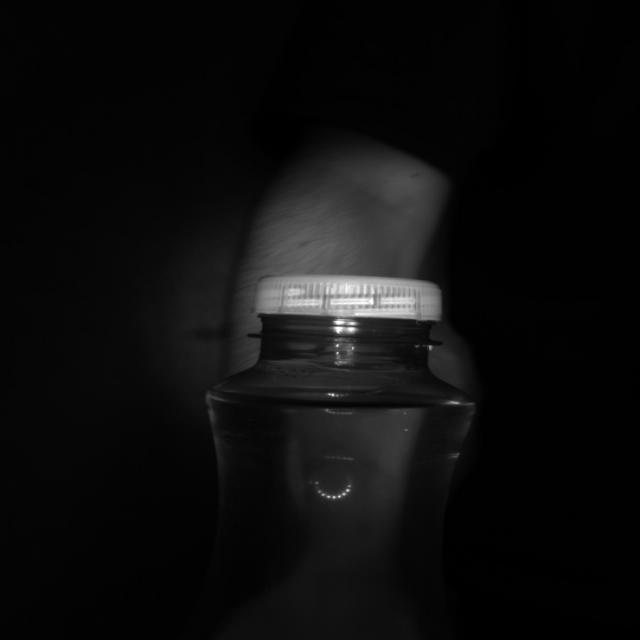Not Good: (249, 276, 443, 344)
